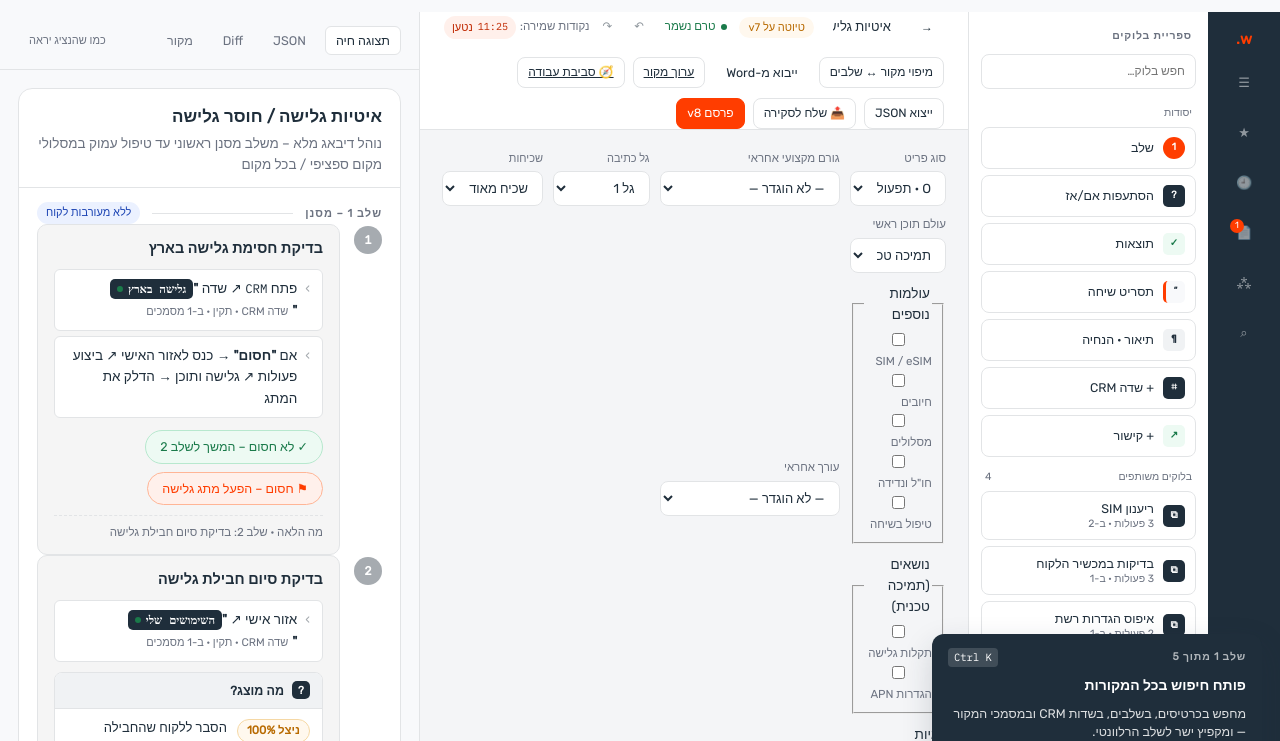
Test: <EditorPage> › switches the side pane to JSON and Diff
Expected: the field with placeholder "שם פריט הידע…" is shown, [826,12,898,42]
Click the button "JSON": (289, 40) [273,33,306,48]
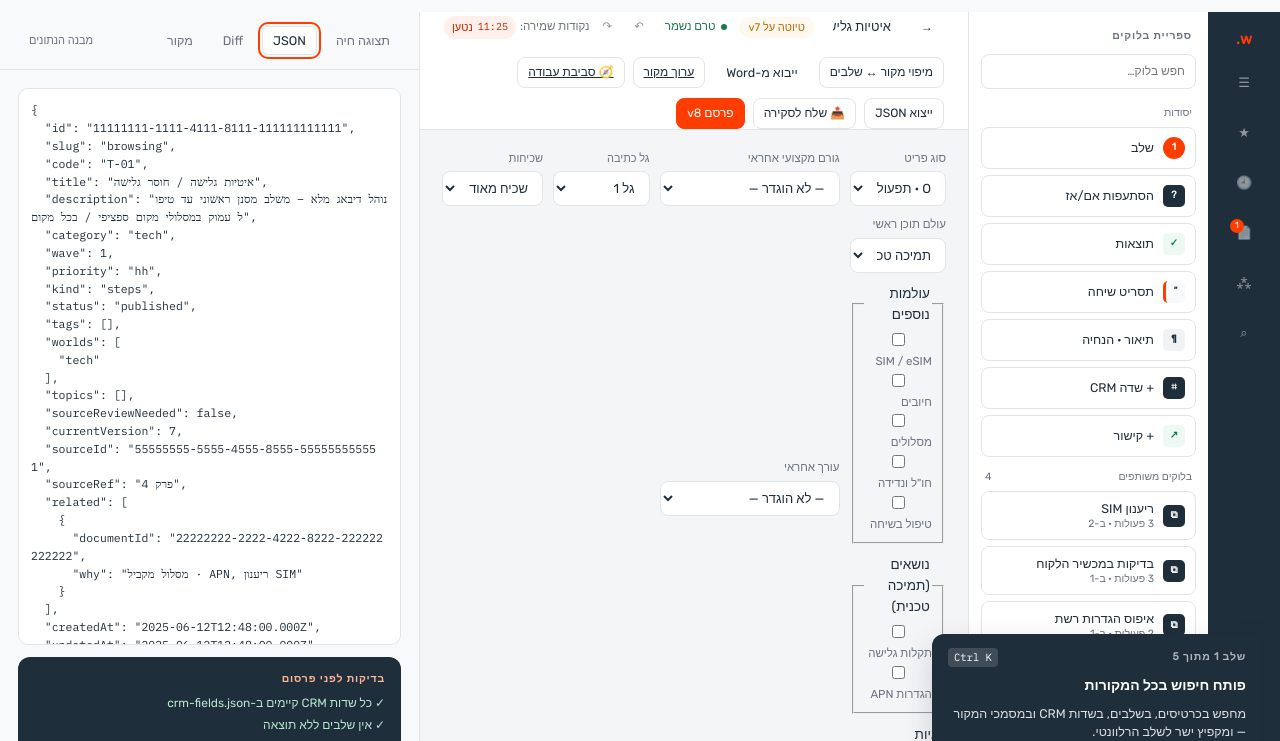
Click the button "Diff": (233, 40) [223,33,243,48]
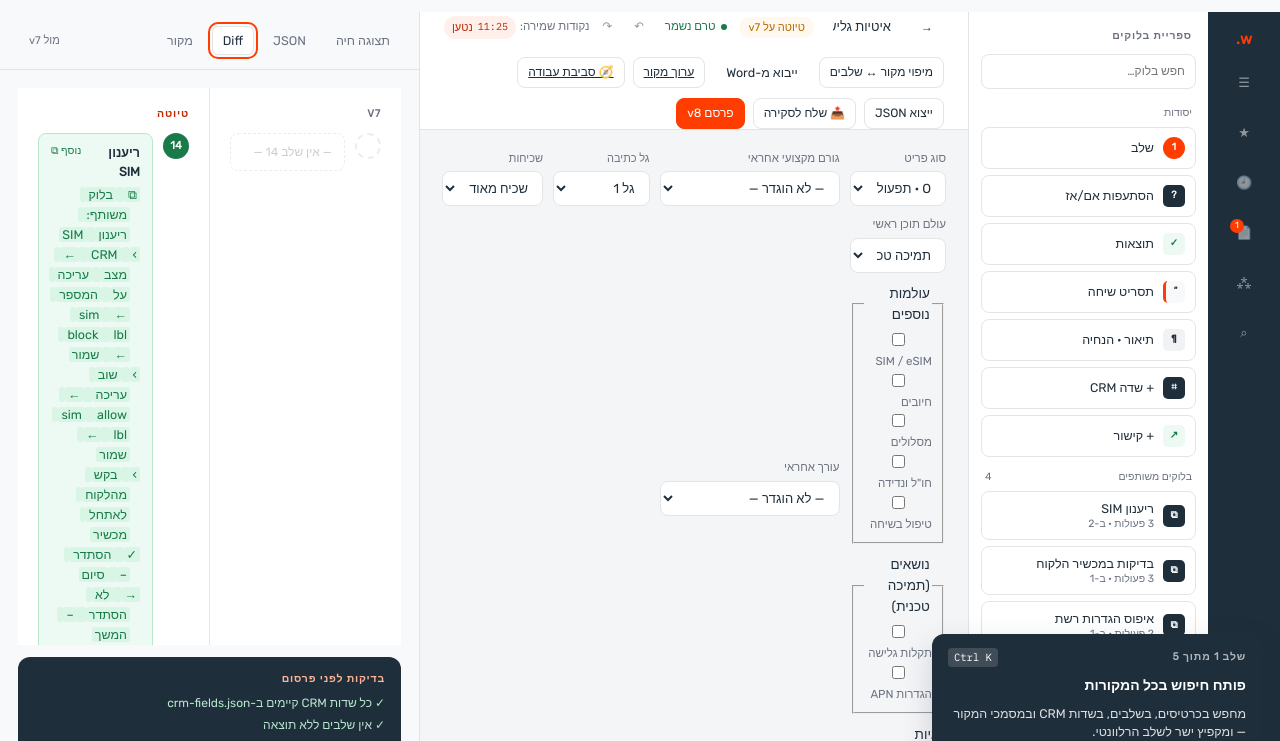
Now the element with class "diff-cols" is shown, box [18,88,401,646]
